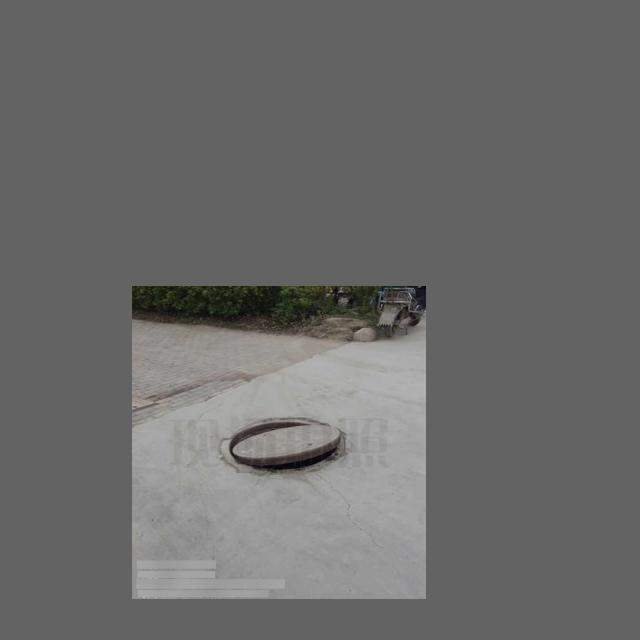uncovered: (220, 418, 348, 475)
